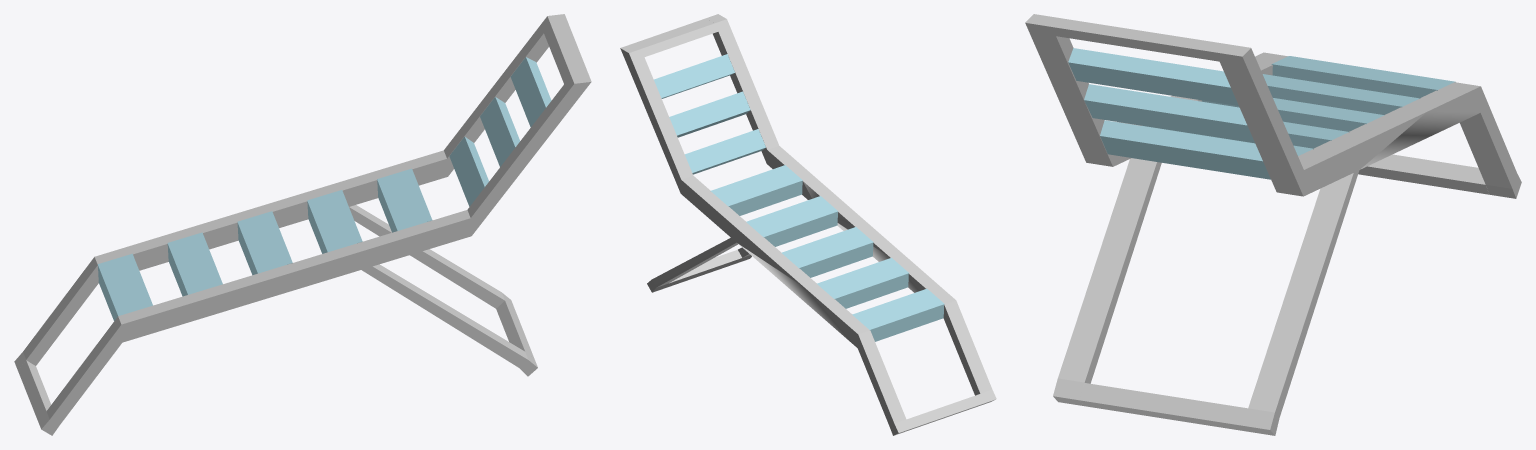
Rendered from Silla_tumbona2.fbx.
The picture shows the model from 3 angles, left to right: view 1: azimuth 30°, elevation 25°; view 2: azimuth 150°, elevation 25°; view 3: azimuth 270°, elevation 25°; orthographic projection. The views are drawn at different scales.
Parts seen in each view (by area): view 1: B_CHAIR2; view 2: B_CHAIR2; view 3: B_CHAIR2.
Boxes of the visible parts, x1,y1,x2,y2 form: B_CHAIR2: (14, 14, 591, 435); B_CHAIR2: (620, 14, 996, 435); B_CHAIR2: (1025, 14, 1521, 435).
Bounding box in the file's own units: 1.36 × 0.8169 × 0.8133.
